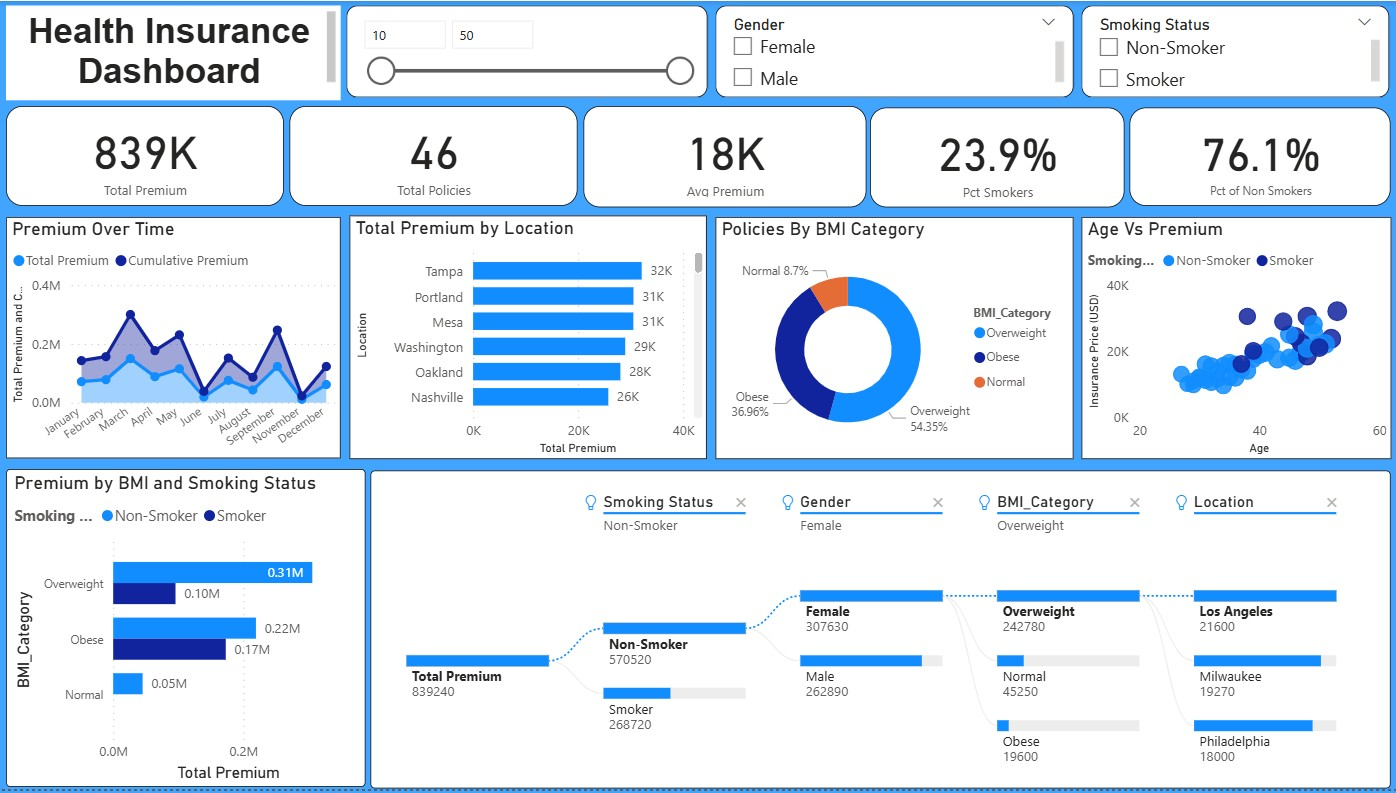

Layout of this report page (visuals, bound fields, positions):
{"tool":"powerbi","page":{"name":"Page 1","canvas":[1280,720],"ordinal":0},"visuals":[{"type":"card","fields":{"Values":["Insurance.Total Premium"]},"box":[6.1,95.8,254.1,91.3],"z":0},{"type":"card","fields":{"Values":["Insurance.Total Policies"]},"box":[264.7,95.8,263.2,91.3],"z":1000},{"type":"card","fields":{"Values":["Insurance.Avg Premium"]},"box":[534,95.8,258.6,92.8],"z":2000},{"type":"card","fields":{"Values":["Insurance.Pct Smokers"]},"box":[795.7,97.4,232.8,91.3],"z":3000},{"type":"stackedAreaChart","title":"Premium Over Time","fields":{"Category":["Insurance.Date.Variation.Date Hierarchy.Month"],"Y":["Insurance.Total Premium","Insurance.Cumulative Premium"]},"box":[5.5,197.5,305.8,220.8],"z":4000},{"type":"barChart","fields":{"Category":["Insurance.Location"],"Y":["Insurance.Total Premium"]},"box":[319.4,195.8,327,222.4],"z":5000},{"type":"clusteredBarChart","title":"Premium by BMI  and Smoking Status","fields":{"Category":["Insurance.BMI_Category"],"Y":["Insurance.Total Premium"],"Series":["Insurance.Smoking Status"]},"box":[6.1,428.5,328.6,290.7],"z":6000},{"type":"donutChart","title":"Policies By BMI Category","fields":{"Category":["Insurance.BMI_Category"],"Y":["Insurance.Total Policies"]},"box":[654.1,196.8,327.1,221.1],"z":7000},{"type":"scatterChart","title":"Age Vs Premium","fields":{"X":["Insurance.Age"],"Y":["Insurance.Insurance Price (USD)"],"Size":["Avg(Insurance.BMI)"],"Series":["Insurance.Smoking Status"]},"box":[988.8,196.8,283.2,221.1],"z":8000},{"type":"decompositionTreeVisual","fields":{"Analyze":["Insurance.Total Premium"],"ExplainBy":["Insurance.Smoking Status","Insurance.Gender","Insurance.BMI_Category","Insurance.Location"]},"box":[339.3,429,932.6,290.6],"z":9000},{"type":"textbox","box":[5.7,3.8,306.1,86.9],"z":10000},{"type":"slicer","fields":{"Values":["Insurance.Gender"]},"box":[654.2,4.6,327.1,83.7],"z":11000},{"type":"slicer","fields":{"Values":["Insurance.Smoking Status"]},"box":[988.9,4.6,281.5,83.7],"z":12000},{"type":"slicer","fields":{"Values":["Insurance.Age (bins)"]},"box":[316.5,4.6,330.1,83.7],"z":13000},{"type":"card","fields":{"Values":["Insurance.Pct of Non Smokers"]},"box":[1033,97.4,238.9,89.8],"z":14000}]}

Visuals, with their boxes in screenshot pixels (x1, y1, x2, y2), scaled from the page's 1280x720 canvas onto the 1396x793 screenshot:
card - Insurance.Total Premium: <box>7,106,284,206</box>
card - Insurance.Total Policies: <box>289,106,576,206</box>
card - Insurance.Avg Premium: <box>582,106,864,208</box>
card - Insurance.Pct Smokers: <box>868,107,1122,208</box>
"Premium Over Time" stackedAreaChart: <box>6,218,340,461</box>
barChart - Insurance.Location x Insurance.Total Premium: <box>348,216,705,461</box>
"Premium by BMI  and Smoking Status" clusteredBarChart: <box>7,472,365,792</box>
"Policies By BMI Category" donutChart: <box>713,217,1070,460</box>
"Age Vs Premium" scatterChart: <box>1078,217,1387,460</box>
decompositionTreeVisual - Insurance.Total Premium x Insurance.Smoking Status: <box>370,472,1387,792</box>
textbox: <box>6,4,340,100</box>
slicer - Insurance.Gender: <box>713,5,1070,97</box>
slicer - Insurance.Smoking Status: <box>1079,5,1386,97</box>
slicer - Insurance.Age (bins): <box>345,5,705,97</box>
card - Insurance.Pct of Non Smokers: <box>1127,107,1387,206</box>
